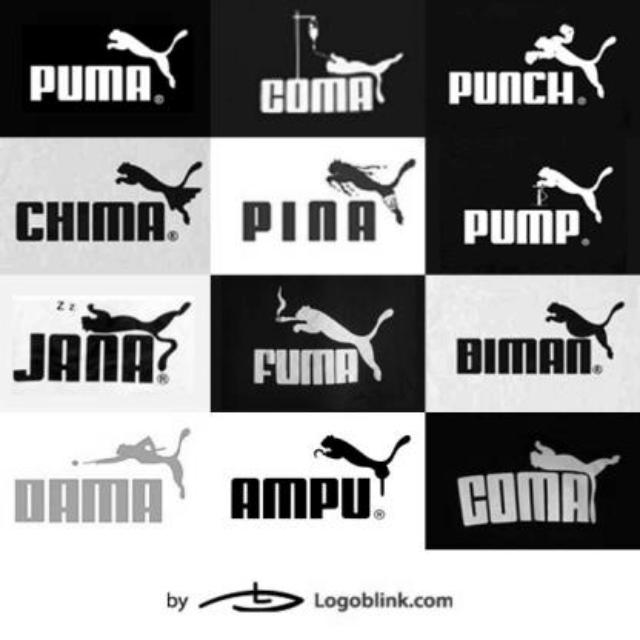PUMA_fake: (2, 277, 198, 397), (8, 420, 208, 536), (8, 151, 216, 255), (237, 284, 418, 392), (222, 428, 422, 522), (443, 156, 623, 260), (235, 8, 407, 116), (235, 152, 418, 252), (451, 434, 623, 538), (444, 293, 638, 382), (443, 17, 621, 113)
PUMA_original: (14, 13, 204, 113)
